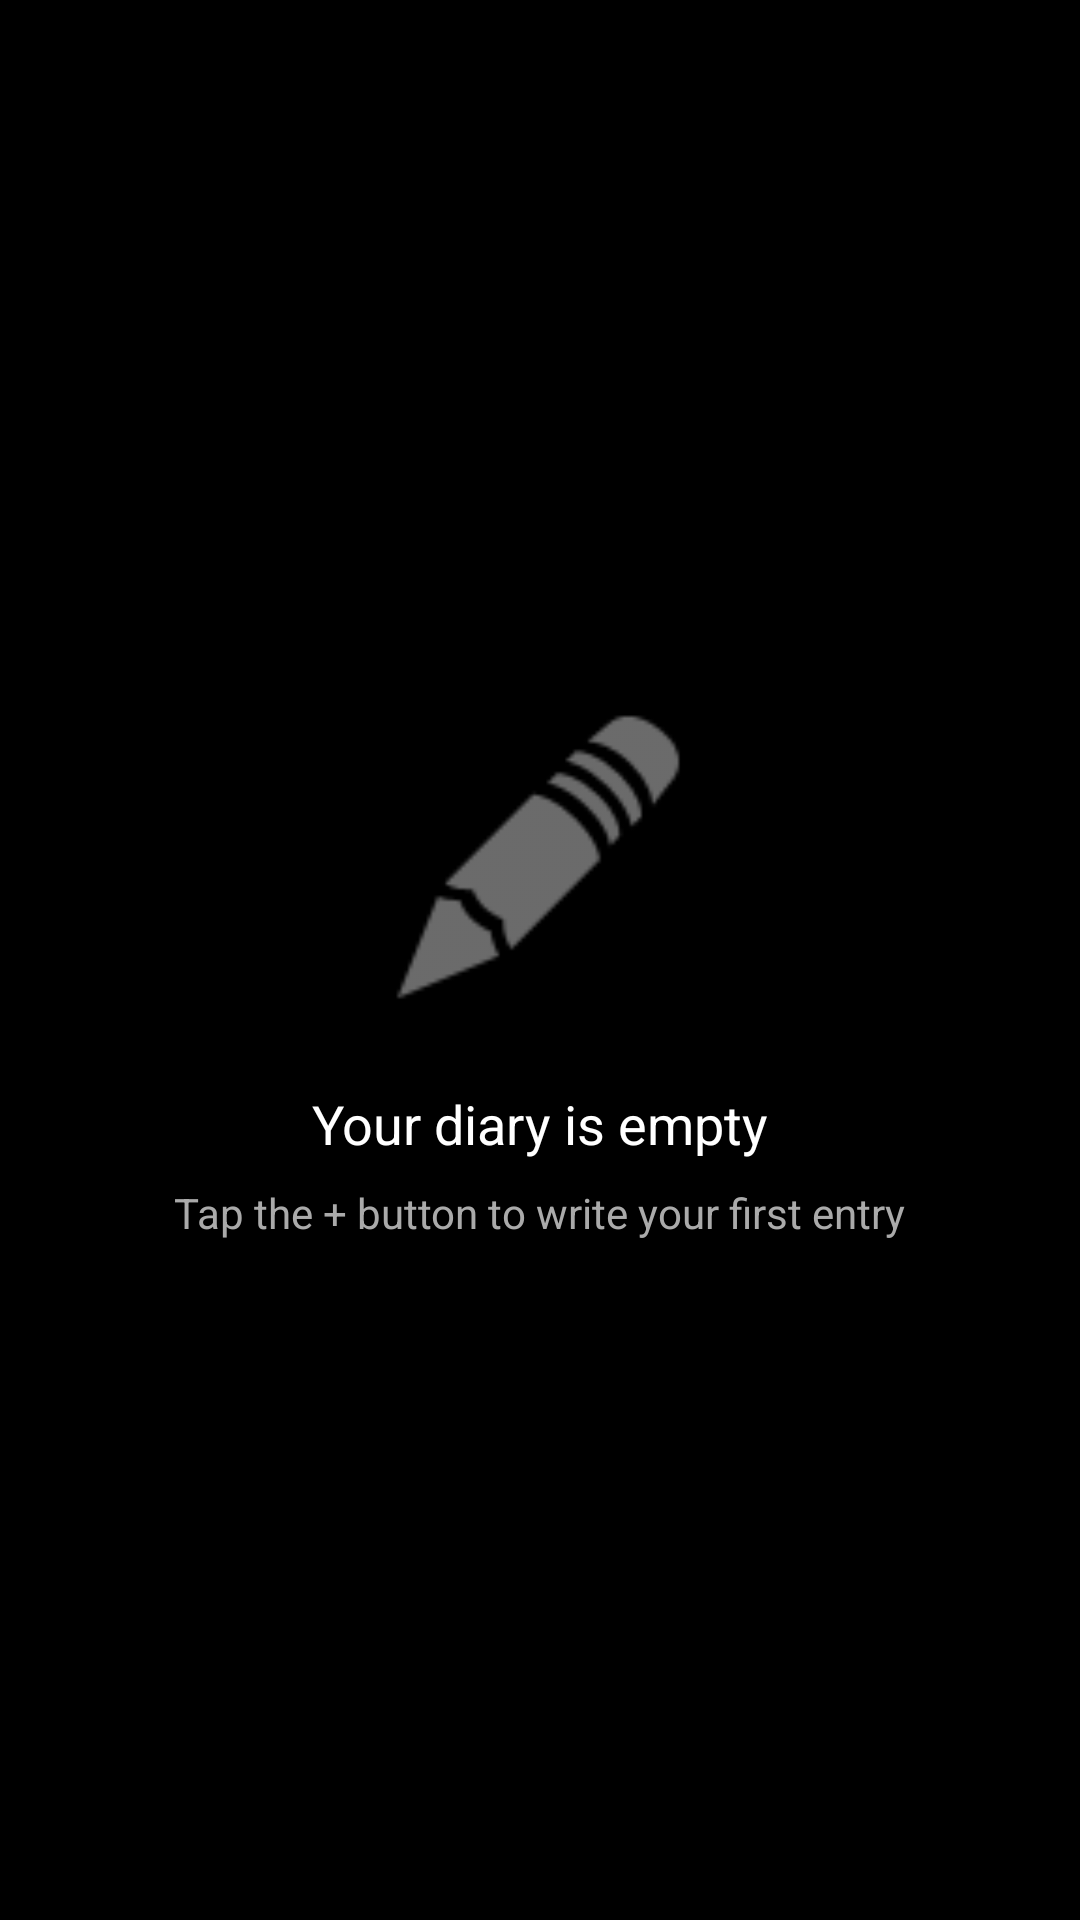

Named icons in this screenshot (1080px x 1920px) and their bounding boxes, bbox=[x1, y1, x2, y2]:
edit: bbox=[397, 715, 680, 998]
